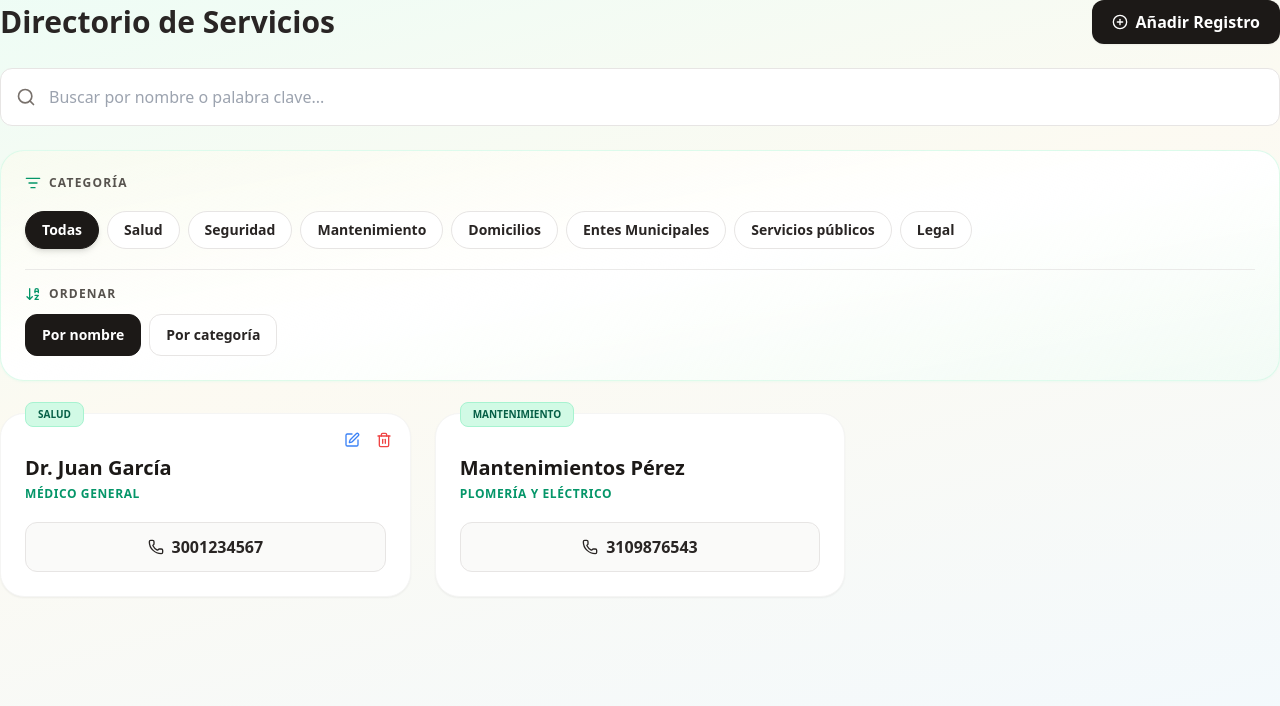
it: DirectoriesView — control de acceso por rol › cancela el formulario al hacer click en "Cancelar"
Click the button "Añadir Registro". click: coordinates (1186, 22)
box: [1092,0,1279,44]
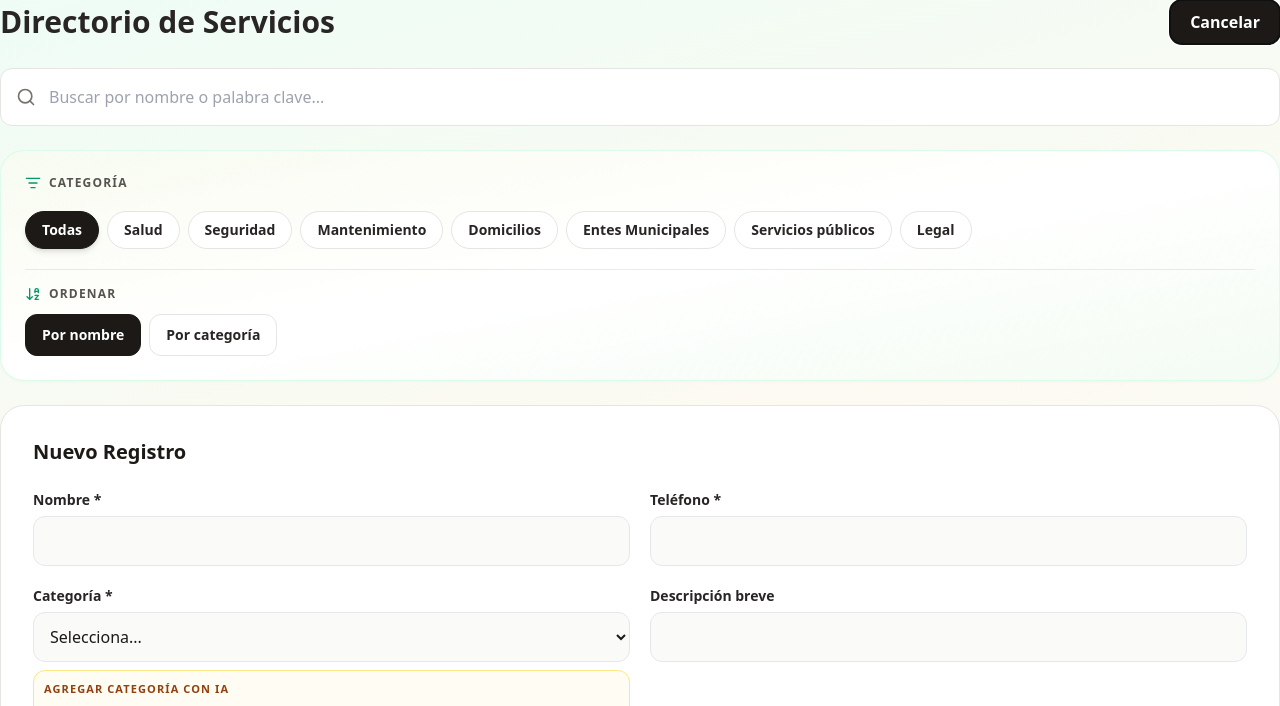
Click the button "Cancelar". click: coordinates (1225, 22)
box: [1170,0,1279,44]
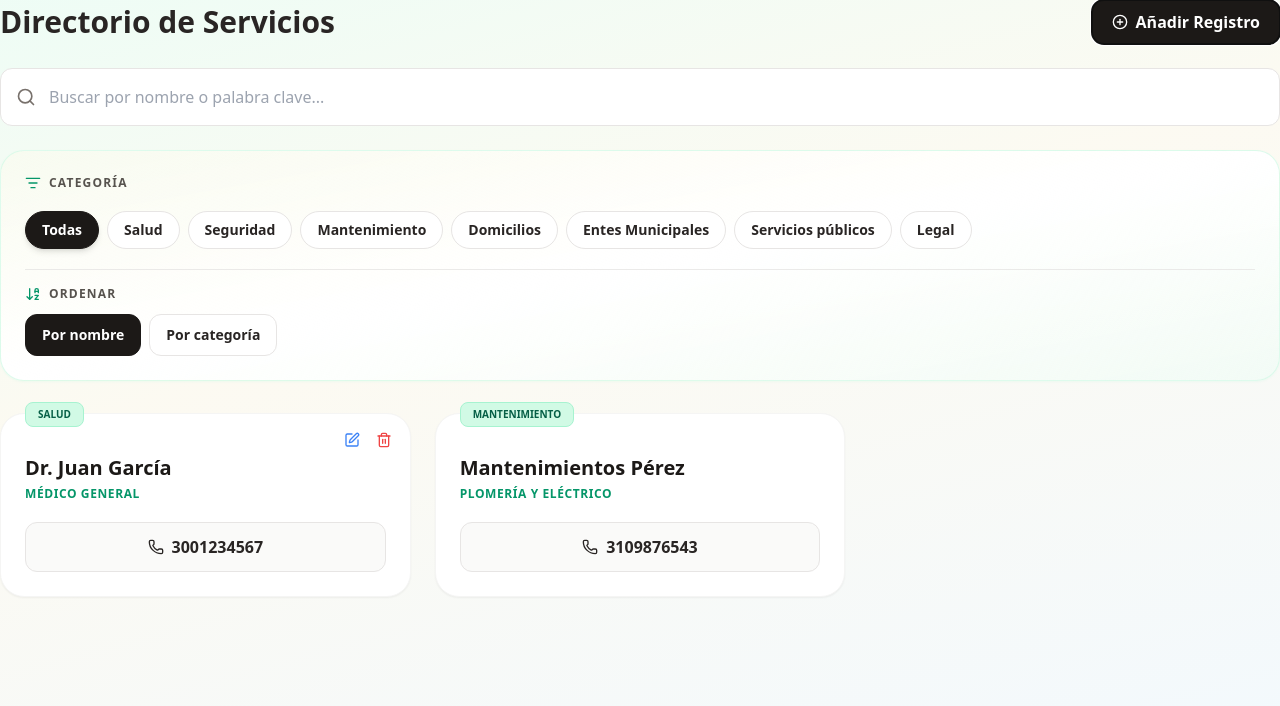
Expected: the heading "Nuevo Registro" is gone
